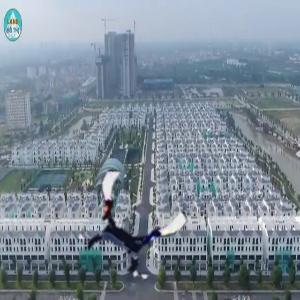drone: (80, 175, 180, 275)
